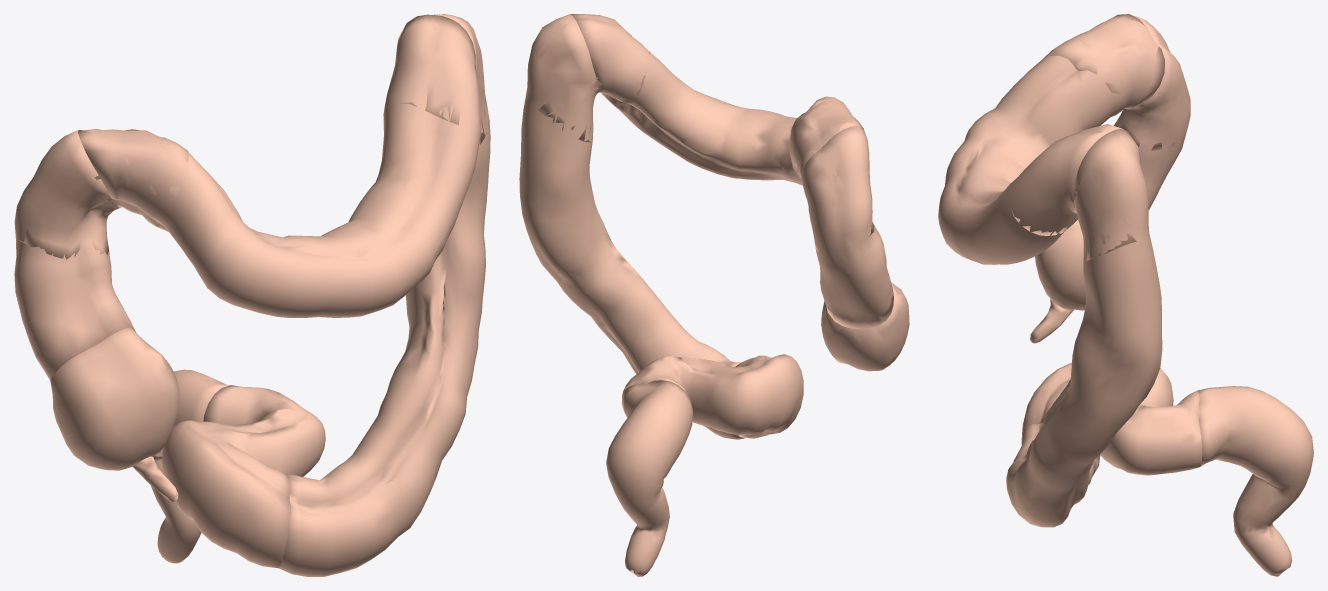
The model's file is sbu_f_intestine_large-80.glb.
The picture shows the model from 3 angles, left to right: view 1: azimuth 30°, elevation 25°; view 2: azimuth 150°, elevation 25°; view 3: azimuth 270°, elevation 25°; orthographic projection. The views are drawn at different scales.
Parts seen in each view (by area): view 1: VH_F_transverse_colon, VH_F_descending_colon, VH_F_sigmoid_colon, VH_F_ascending_colon, VH_F_caecum, VH_F_rectum, VH_F_hepatic_flexure_of_colon, VH_F_splenic_flexure_of_colon, VH_F_vermiform_appendix; view 2: VH_F_descending_colon, VH_F_transverse_colon, VH_F_ascending_colon, VH_F_rectum, VH_F_sigmoid_colon, VH_F_caecum, VH_F_splenic_flexure_of_colon, VH_F_hepatic_flexure_of_colon; view 3: VH_F_descending_colon, VH_F_transverse_colon, VH_F_rectum, VH_F_sigmoid_colon, VH_F_ascending_colon, VH_F_caecum, VH_F_hepatic_flexure_of_colon, VH_F_splenic_flexure_of_colon, VH_F_vermiform_appendix.
Boxes of the visible parts, x1,y1,x2,y2 form: VH_F_transverse_colon: (78,14,480,317); VH_F_descending_colon: (278,14,490,576); VH_F_sigmoid_colon: (162,385,325,567); VH_F_ascending_colon: (14,130,135,379); VH_F_caecum: (50,327,179,470); VH_F_rectum: (150,369,230,563); VH_F_hepatic_flexure_of_colon: (19,129,188,259); VH_F_splenic_flexure_of_colon: (383,14,489,156); VH_F_vermiform_appendix: (133,456,178,502); VH_F_descending_colon: (519,14,744,439); VH_F_transverse_colon: (570,14,863,185); VH_F_ascending_colon: (801,126,893,329); VH_F_rectum: (606,380,693,576); VH_F_sigmoid_colon: (622,354,803,438); VH_F_caecum: (821,282,909,371); VH_F_splenic_flexure_of_colon: (525,16,649,142); VH_F_hepatic_flexure_of_colon: (789,96,874,251); VH_F_descending_colon: (1006,128,1162,527); VH_F_transverse_colon: (938,14,1164,264); VH_F_rectum: (1197,386,1313,576); VH_F_sigmoid_colon: (1022,362,1202,475); VH_F_ascending_colon: (1114,15,1190,209); VH_F_caecum: (1035,220,1085,310); VH_F_hepatic_flexure_of_colon: (1046,20,1183,150); VH_F_splenic_flexure_of_colon: (1011,130,1149,260); VH_F_vermiform_appendix: (1030,299,1073,343).
Bounding box in the file's own units: 0.2433 × 0.2949 × 0.1934.
